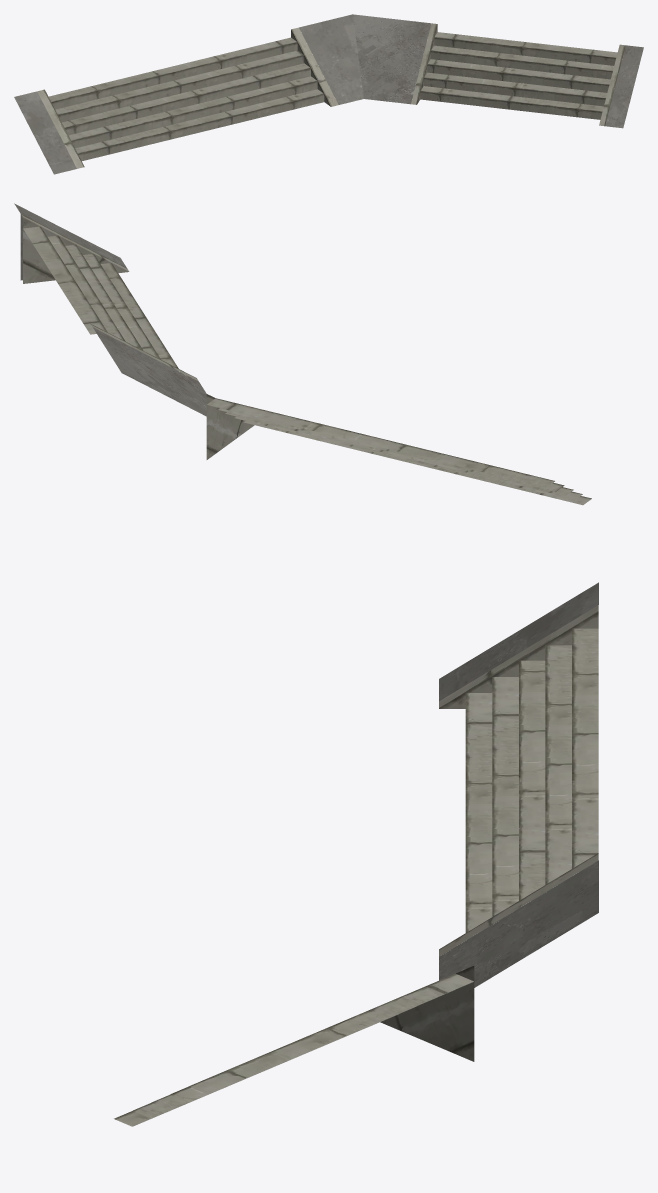
3 renders of one model, top to bottom at view 1: azimuth 30°, elevation 25°; view 2: azimuth 150°, elevation 25°; view 3: azimuth 270°, elevation 25°, orthographic. The views are drawn at different scales.
Visible parts, largest first — view 1: body0_model0_lod0_mesh0, body0_model0_lod0_mesh1; view 2: body0_model0_lod0_mesh0, body0_model0_lod0_mesh1; view 3: body0_model0_lod0_mesh0, body0_model0_lod0_mesh1.
Boxes of the visible parts, box(x1,y1,x2,y2) form: body0_model0_lod0_mesh0: box(37, 23, 625, 168); body0_model0_lod0_mesh1: box(14, 14, 643, 174); body0_model0_lod0_mesh0: box(21, 214, 591, 505); body0_model0_lod0_mesh1: box(14, 203, 206, 416); body0_model0_lod0_mesh0: box(114, 605, 598, 1126); body0_model0_lod0_mesh1: box(439, 582, 598, 987).
Bounding box in the file's own units: 544 × 48.01 × 243.
Materials: 2 (2 with a texture image).
